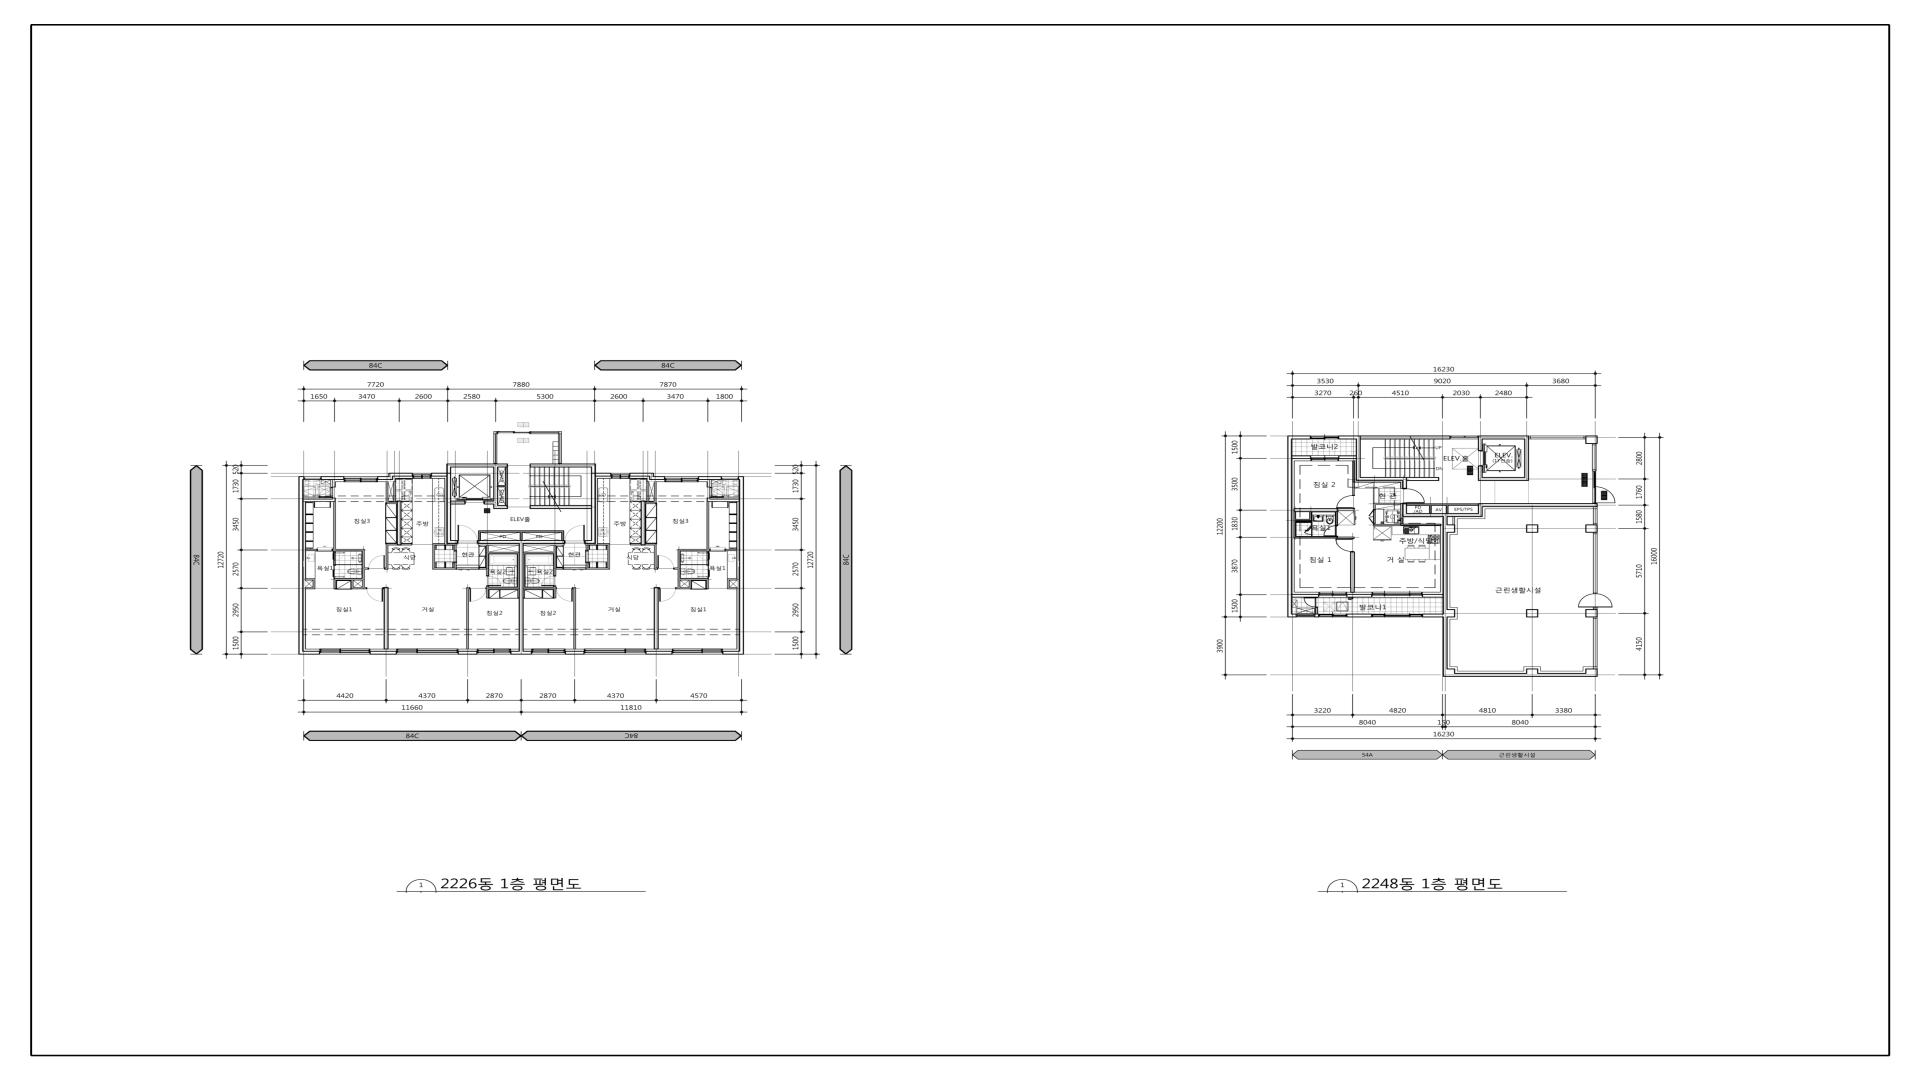door: (1578, 593, 1613, 607), (1592, 486, 1616, 503), (457, 525, 478, 544), (564, 525, 585, 544), (1404, 489, 1425, 503), (366, 587, 384, 602), (658, 587, 676, 602), (368, 555, 385, 570), (657, 555, 674, 570), (556, 587, 573, 602), (470, 587, 486, 602), (1336, 495, 1354, 508), (1335, 539, 1353, 552), (497, 431, 558, 434), (486, 575, 501, 586), (709, 487, 724, 498), (319, 487, 333, 498), (541, 576, 556, 586), (1323, 525, 1336, 536), (1368, 509, 1376, 524), (1303, 598, 1315, 607), (333, 551, 345, 560), (698, 570, 710, 579), (698, 551, 709, 560), (333, 570, 345, 578), (456, 567, 479, 570), (563, 567, 586, 570), (1592, 471, 1596, 486), (317, 549, 333, 552), (585, 551, 589, 562), (454, 551, 457, 562), (710, 549, 726, 551)
wall: (1402, 503, 1598, 677), (1287, 435, 1311, 617), (1339, 435, 1407, 488), (1478, 435, 1529, 481), (738, 476, 744, 651), (584, 467, 596, 544), (299, 476, 304, 655), (519, 544, 524, 651), (446, 467, 451, 544), (1360, 436, 1450, 440), (478, 540, 564, 544), (383, 587, 388, 649), (654, 587, 659, 649), (1593, 533, 1598, 593), (1593, 617, 1598, 669), (478, 530, 564, 533), (466, 587, 470, 649), (530, 505, 591, 509), (396, 501, 401, 546), (1407, 503, 1478, 506), (493, 467, 498, 509), (1350, 552, 1355, 593), (530, 464, 596, 467), (446, 464, 508, 467), (573, 587, 576, 649), (641, 501, 645, 546), (1294, 508, 1338, 512), (1529, 436, 1586, 439), (333, 502, 336, 549), (1592, 444, 1597, 471), (303, 498, 336, 502), (1407, 477, 1439, 481), (707, 498, 739, 502), (1585, 524, 1598, 533), (505, 467, 508, 505), (645, 651, 673, 655), (1292, 594, 1319, 598), (370, 651, 397, 655), (362, 551, 365, 587), (1585, 609, 1598, 617), (1585, 436, 1598, 444), (630, 473, 654, 477), (698, 476, 722, 480), (707, 502, 709, 549), (321, 476, 344, 480), (1294, 536, 1338, 538), (722, 651, 744, 655), (1593, 507, 1598, 524), (1422, 594, 1443, 598), (511, 651, 532, 655), (1403, 524, 1442, 526), (1346, 614, 1372, 617), (1292, 455, 1311, 459), (458, 651, 477, 655), (565, 651, 584, 655), (678, 549, 680, 587), (432, 545, 435, 570), (1347, 594, 1372, 597), (385, 545, 388, 570), (654, 545, 657, 570), (607, 546, 610, 570), (389, 473, 413, 476), (517, 553, 519, 587), (1339, 455, 1356, 459), (303, 651, 320, 655), (523, 553, 525, 587), (1352, 460, 1355, 482), (333, 549, 365, 551), (649, 476, 665, 480), (377, 476, 393, 480), (488, 587, 519, 589), (488, 552, 519, 554), (486, 545, 488, 576), (554, 545, 556, 576), (523, 587, 554, 589), (393, 481, 396, 501), (431, 473, 446, 477), (654, 481, 657, 501), (680, 549, 710, 551), (334, 578, 362, 580), (1373, 524, 1400, 526), (1376, 503, 1402, 505), (1294, 512, 1296, 536), (596, 473, 611, 476), (586, 568, 608, 570), (435, 568, 456, 570), (451, 501, 465, 504), (498, 505, 508, 509), (386, 481, 388, 501), (647, 481, 649, 501), (1335, 512, 1338, 525), (1352, 482, 1355, 495), (597, 543, 610, 546), (727, 578, 738, 581), (523, 552, 554, 553), (305, 578, 315, 581), (484, 501, 494, 504), (676, 587, 691, 589), (680, 579, 709, 580), (451, 540, 458, 544), (353, 587, 367, 589), (334, 564, 362, 565), (680, 564, 708, 565), (1400, 517, 1403, 526), (351, 580, 354, 589), (432, 543, 445, 545), (305, 549, 317, 551), (486, 586, 488, 598), (645, 501, 657, 503), (725, 549, 737, 551), (554, 586, 556, 598), (645, 543, 656, 545), (1429, 506, 1432, 513), (1446, 506, 1449, 513), (1315, 607, 1318, 614), (1309, 512, 1312, 519), (478, 533, 481, 540), (561, 533, 564, 540), (709, 480, 712, 487), (330, 480, 333, 487), (386, 501, 396, 503), (313, 580, 315, 589), (1373, 503, 1376, 509), (334, 580, 336, 589), (707, 580, 709, 589), (727, 580, 729, 589), (1338, 537, 1355, 538), (1338, 509, 1355, 510), (1296, 519, 1312, 520), (729, 587, 737, 589), (305, 587, 313, 589), (1314, 614, 1319, 617), (498, 485, 505, 487), (479, 568, 486, 570), (520, 533, 522, 540), (556, 568, 563, 570), (689, 580, 691, 587), (454, 562, 456, 568), (454, 545, 456, 551), (586, 545, 588, 551), (586, 562, 588, 568), (401, 544, 412, 545), (386, 544, 397, 545), (630, 544, 641, 545), (1593, 607, 1598, 609), (708, 560, 709, 570), (333, 560, 334, 570), (674, 568, 678, 570), (365, 568, 368, 570), (1311, 520, 1312, 525), (1311, 535, 1312, 536)
window: (584, 649, 645, 655), (320, 648, 370, 655), (672, 649, 723, 655), (397, 649, 458, 654), (1372, 592, 1422, 597), (477, 649, 511, 655), (665, 476, 699, 482), (344, 476, 378, 482), (532, 649, 565, 655), (1311, 455, 1339, 461), (1372, 614, 1422, 617), (1319, 592, 1347, 597), (558, 431, 562, 464), (611, 473, 630, 479), (1311, 435, 1339, 439), (413, 473, 431, 479), (494, 431, 497, 464), (1450, 436, 1478, 439), (1319, 614, 1346, 617), (721, 476, 738, 480), (304, 476, 321, 480), (1297, 614, 1314, 617)
